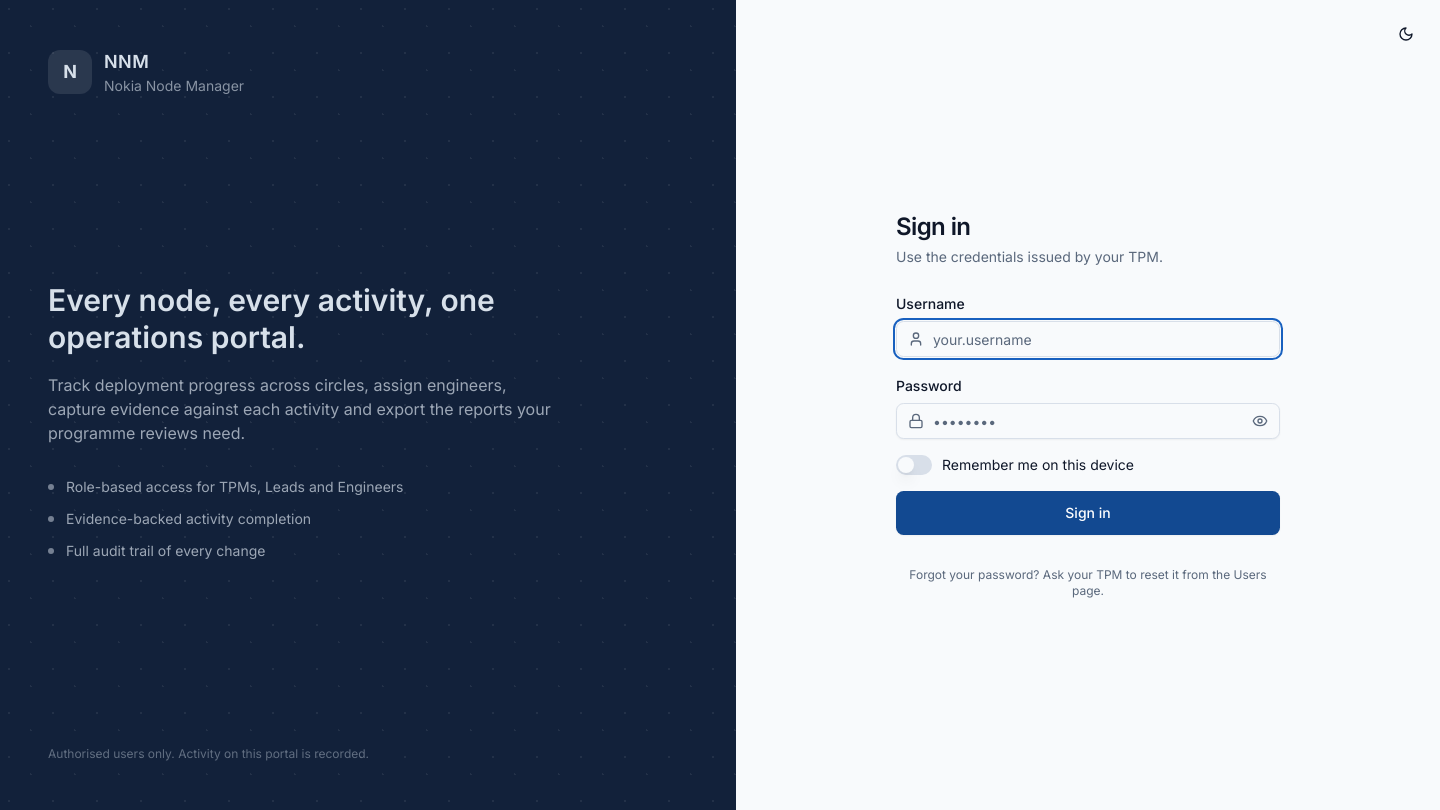
Test: LoginPage › shows the server's message when sign-in fails
Type "tina.tpm" into the field labelled "Username".
click(1088, 339); type("tina.tpm")  # box [896,321,1280,357]
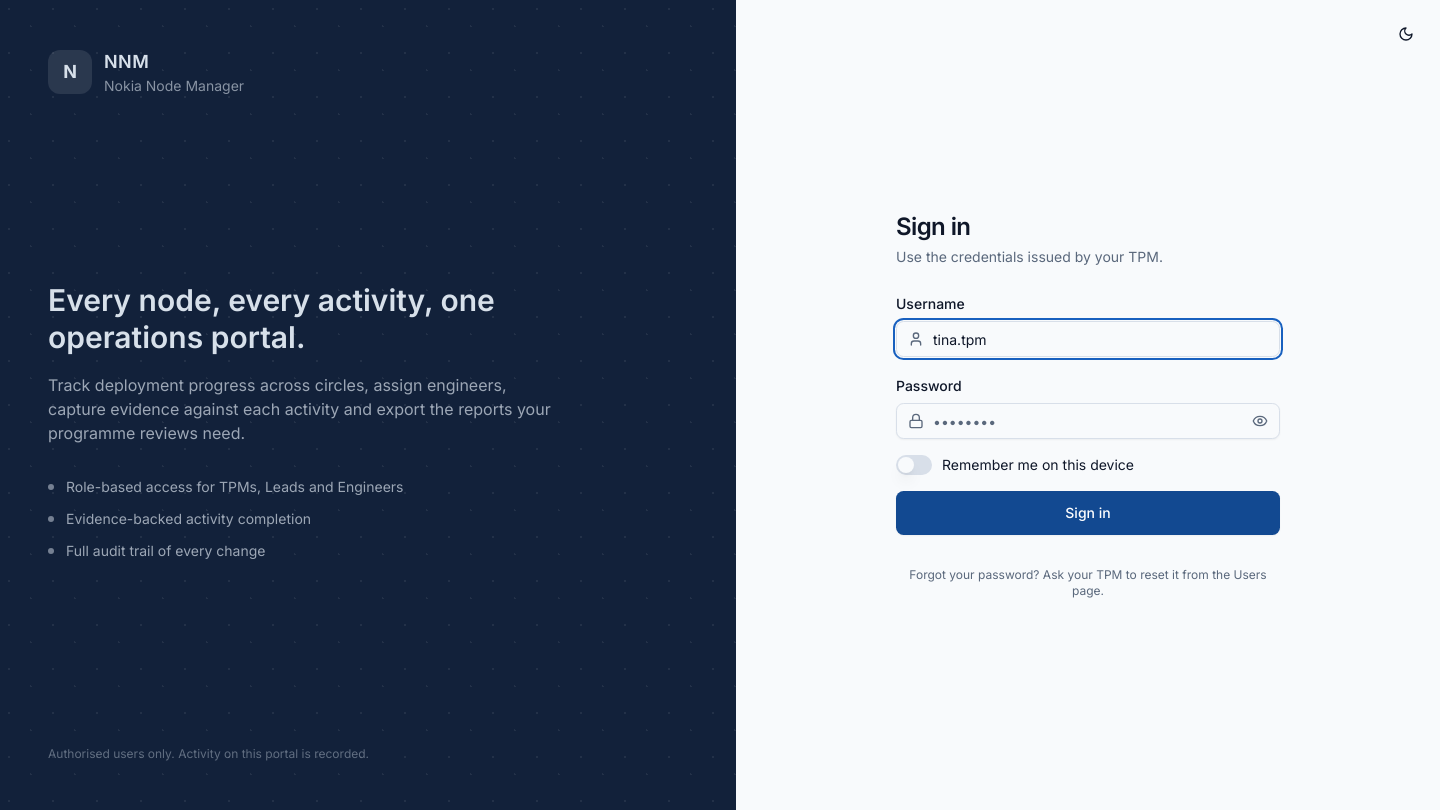
Type "wrong" into the password field labelled "Password".
click(1088, 421); type("wrong")  # box [896,403,1280,439]
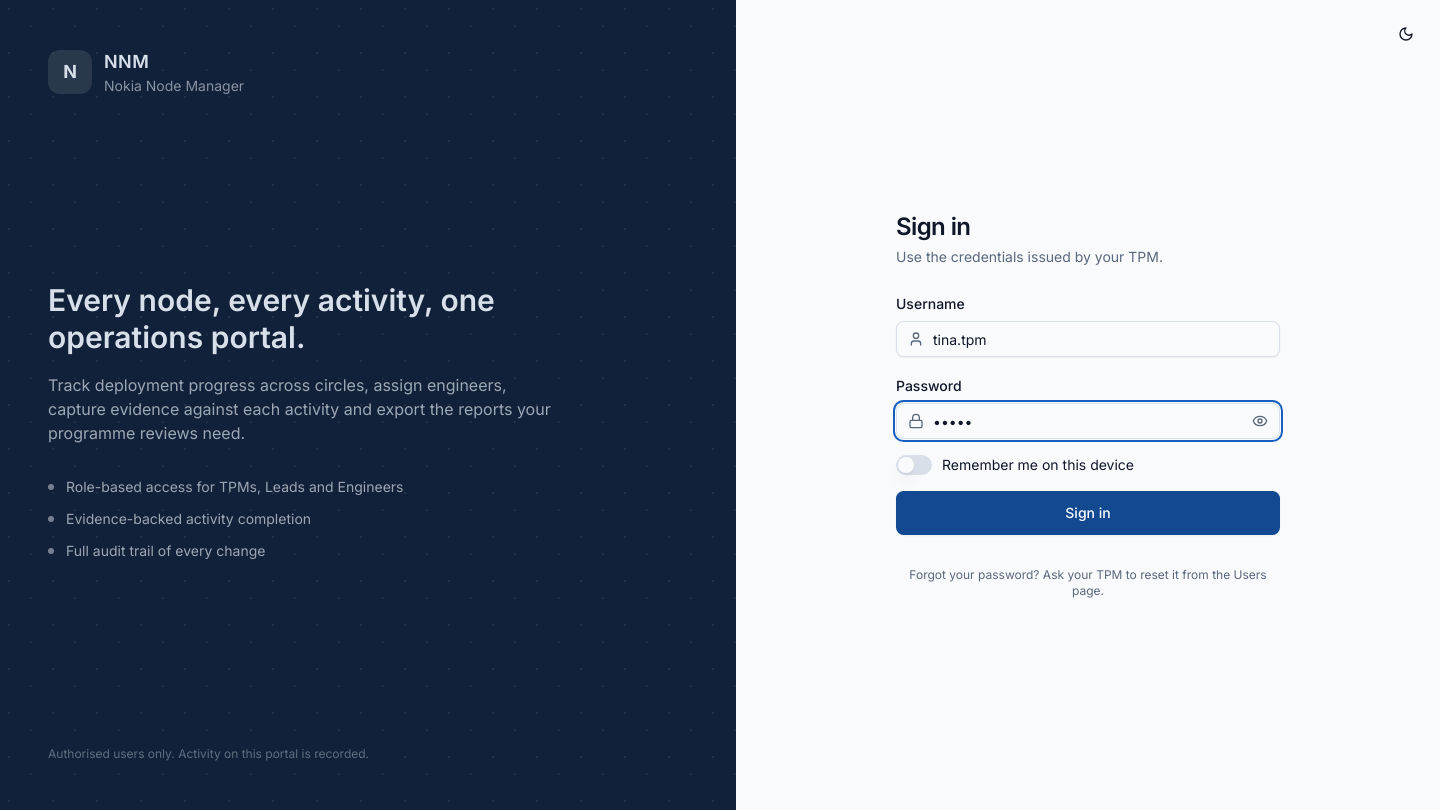
Click the button "Sign in".
click(1088, 513)  # box [896,491,1280,535]
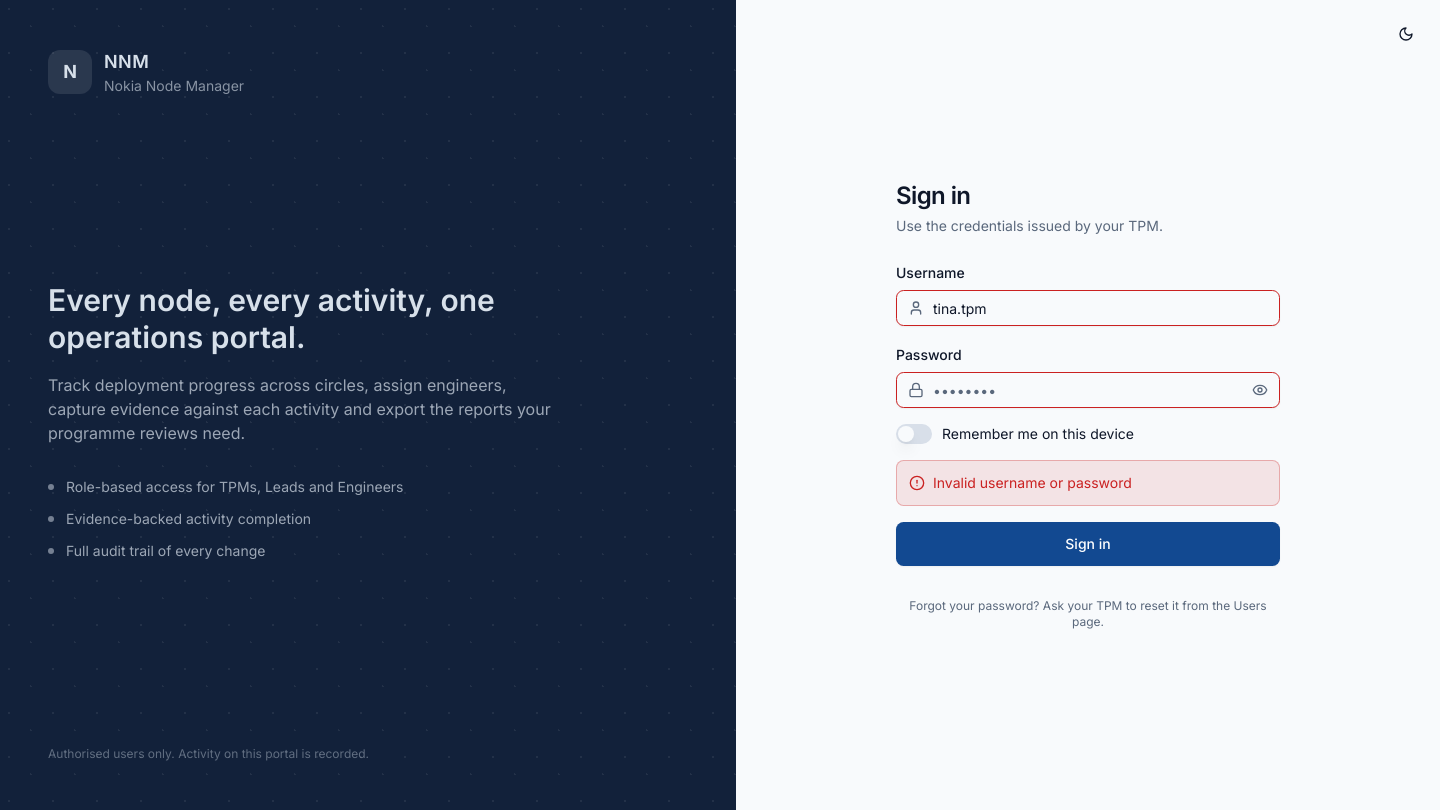
Now the message reads "Invalid username or password", box [933,474,1132,491]
Now the password field labelled "Password" is empty, box [896,372,1280,408]
